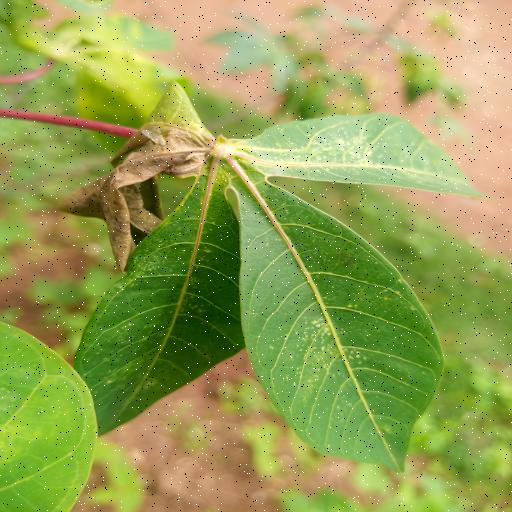Cassava_Mosaic: (64, 82, 485, 489)
